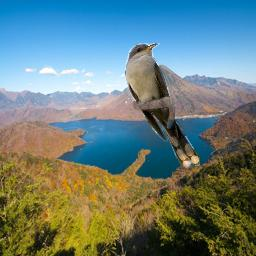Cuckoo: (125, 43, 200, 168)
